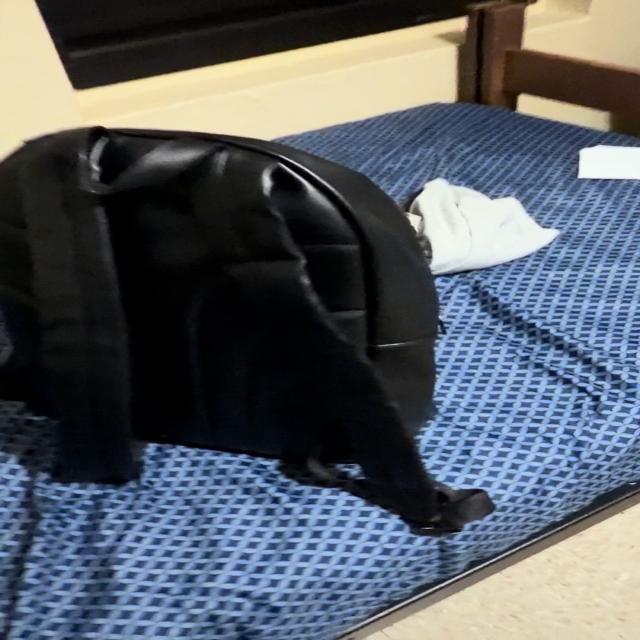backpack: (0, 128, 492, 530)
